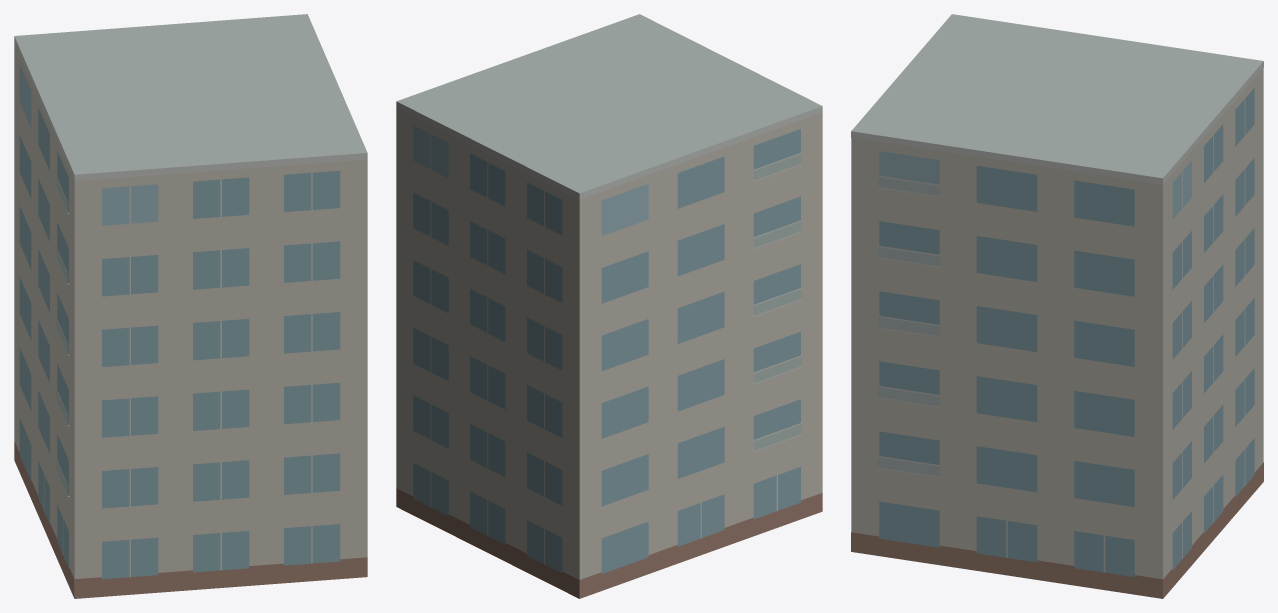
Rendered from survey-upis-32892581.glb.
The picture shows the model from 3 angles, left to right: view 1: azimuth 30°, elevation 25°; view 2: azimuth 150°, elevation 25°; view 3: azimuth 270°, elevation 25°; orthographic projection. The views are drawn at different scales.
Parts seen in each view (by area): view 1: survey-upis-32892581.tmp; view 2: survey-upis-32892581.tmp; view 3: survey-upis-32892581.tmp.
Part boxes in pixels (<box>): survey-upis-32892581.tmp: <box>14,14,367,598</box>; survey-upis-32892581.tmp: <box>396,14,822,598</box>; survey-upis-32892581.tmp: <box>851,14,1263,598</box>.
Size of the model in its own units: 13.33 by 15.9 by 14.15.
